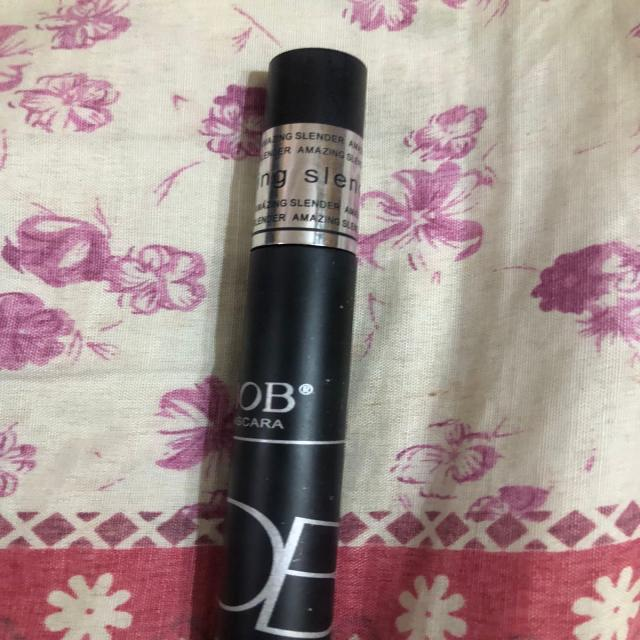mascara: (192, 22, 398, 640)
